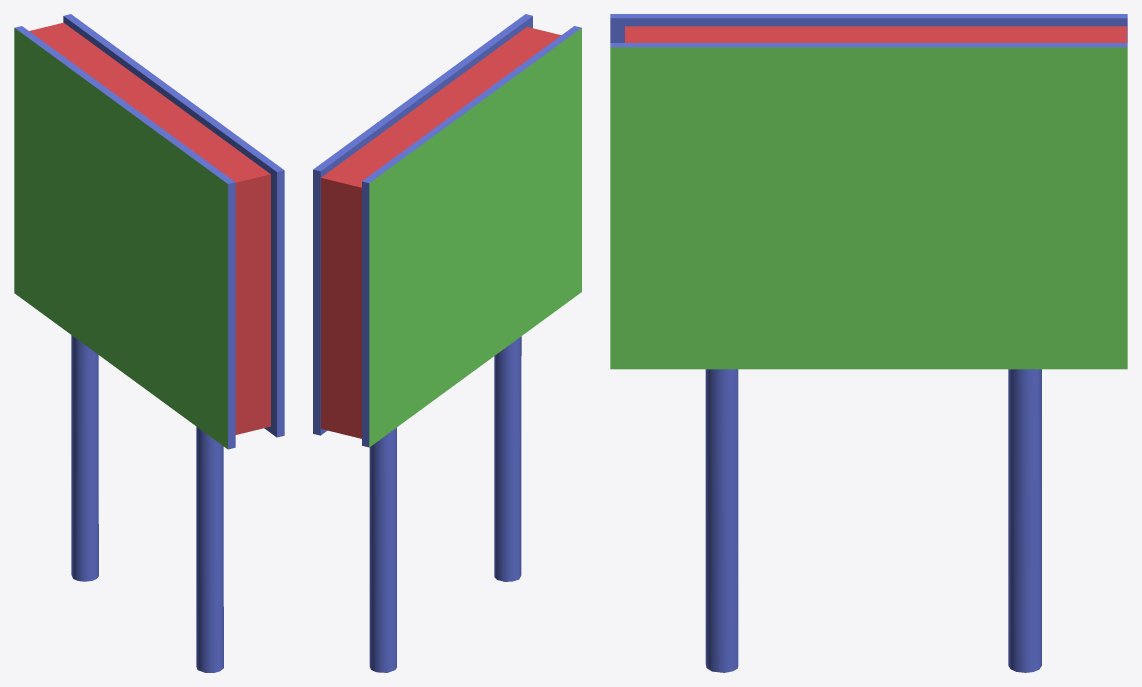
File: 3DBillboard_1.fbx
3 views of the same model, side by side, from view 1: azimuth 30°, elevation 25°; view 2: azimuth 150°, elevation 25°; view 3: azimuth 270°, elevation 25° (orthographic). The views are drawn at different scales.
Visible parts, largest first — view 1: 3D_Billboard_1; view 2: 3D_Billboard_1; view 3: 3D_Billboard_1.
Part boxes in pixels (<box>): 3D_Billboard_1: <box>14,14,284,672</box>; 3D_Billboard_1: <box>313,14,581,672</box>; 3D_Billboard_1: <box>610,14,1127,672</box>.
Bounding box in the file's own units: 232 × 2054 × 1517.
